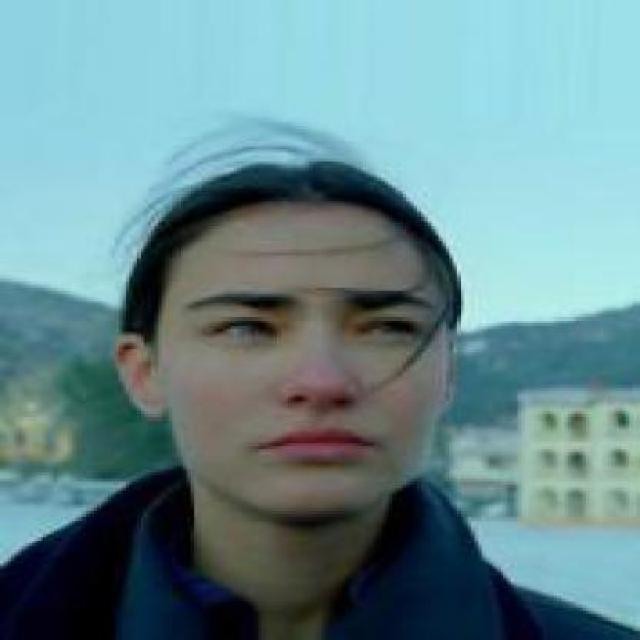closed-mouth: (250, 426, 376, 463)
